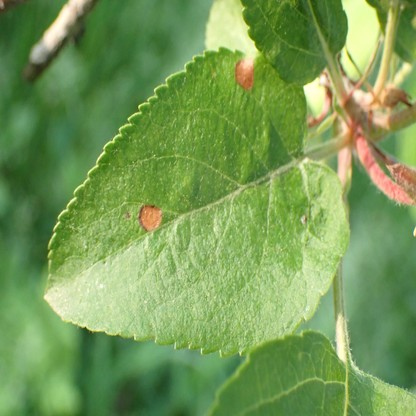frogeye_leaf_spot: (139, 203, 162, 232), (235, 60, 254, 89)
